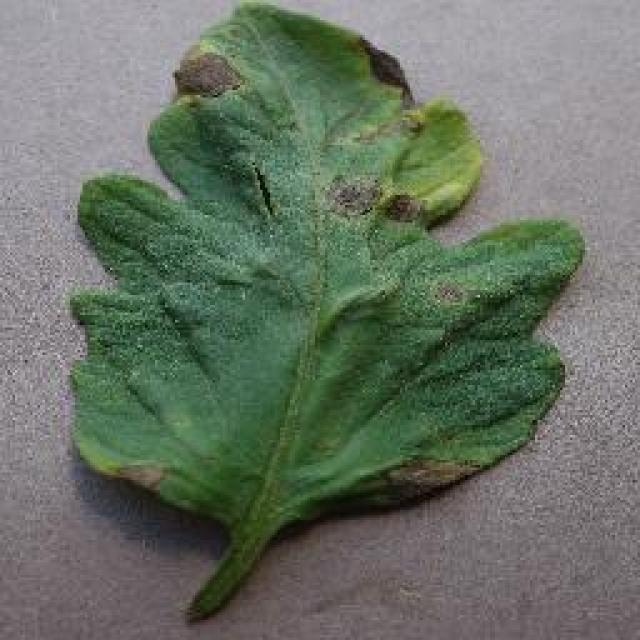Tomato Early blight leaf: (76, 14, 542, 621)
